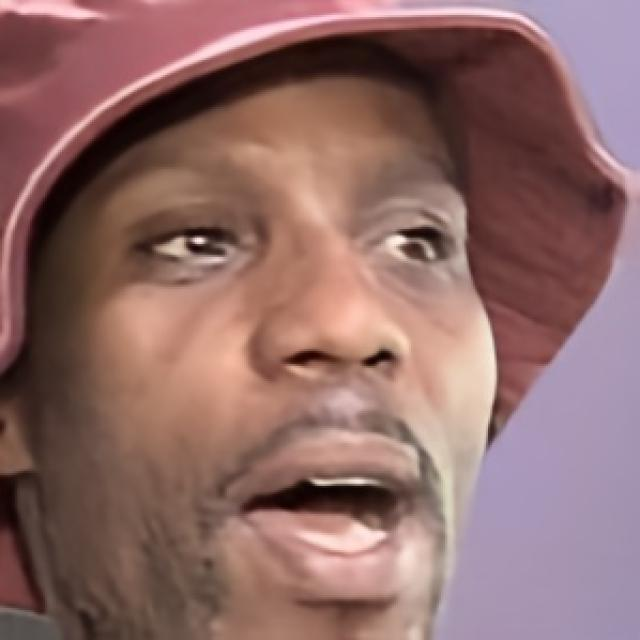surprise: (35, 38, 498, 640)
